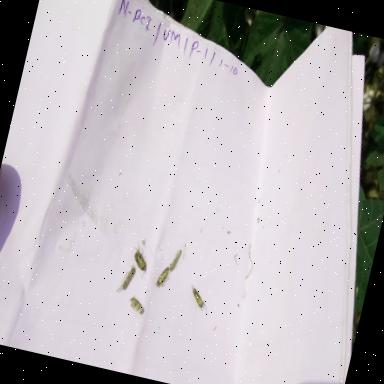pbw: (126, 238, 157, 278), (184, 282, 213, 315), (116, 261, 140, 299), (125, 291, 148, 317), (152, 263, 172, 292), (167, 246, 183, 277)
